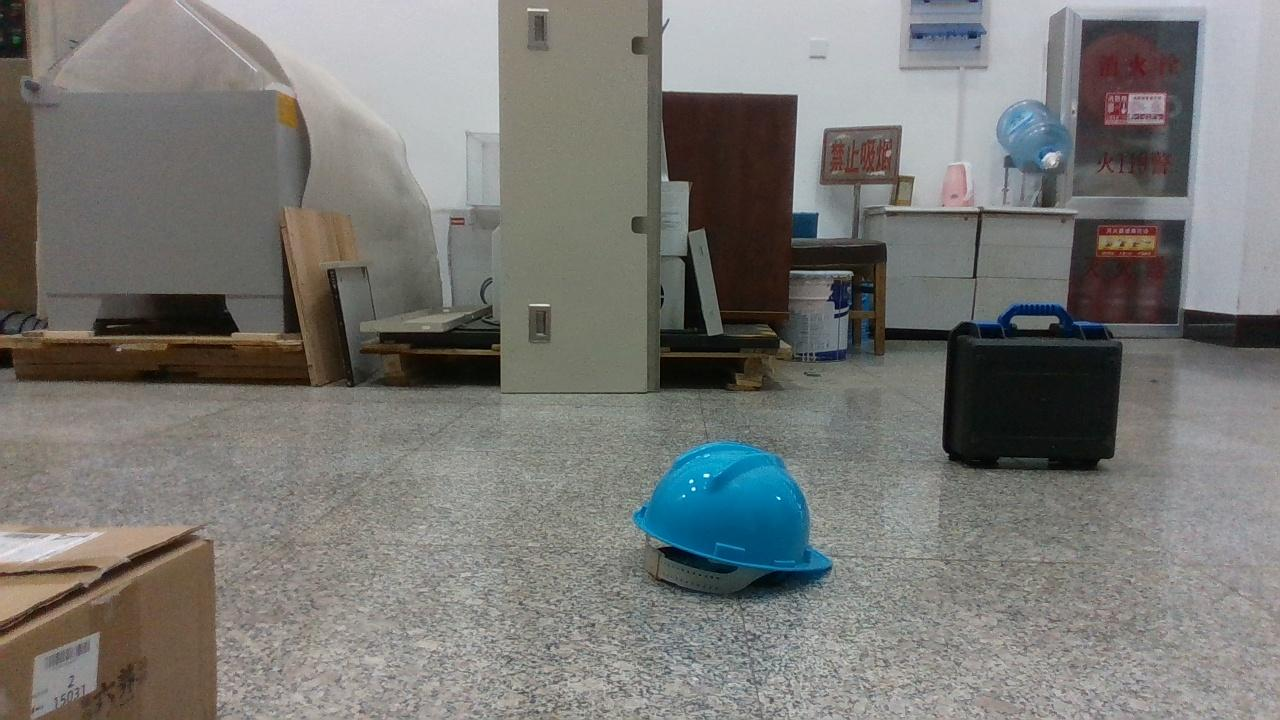box: (0, 525, 215, 719)
safehat: (635, 442, 830, 592)
toolkit: (942, 302, 1122, 469)
